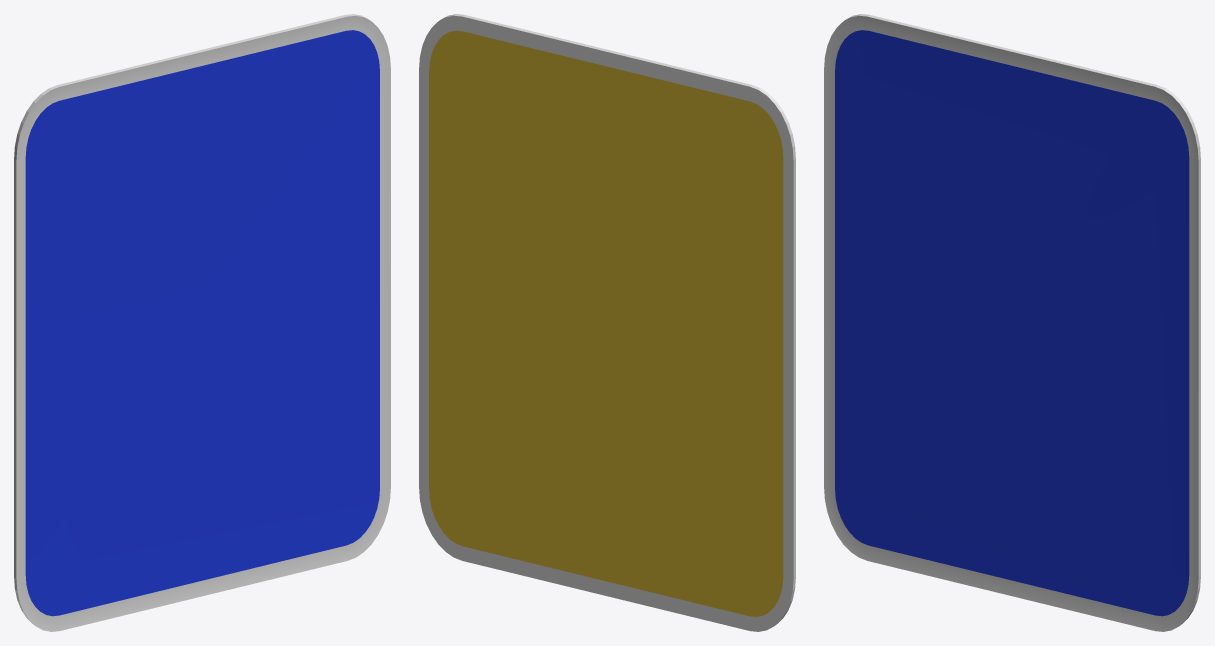
The model's file is Card.fbx.
The picture shows the model from 3 angles, left to right: view 1: azimuth 30°, elevation 25°; view 2: azimuth 150°, elevation 25°; view 3: azimuth 330°, elevation 25°; orthographic projection.
Parts seen in each view (by area): view 1: Cube; view 2: Cube; view 3: Cube.
Part boxes in pixels (box(x1,y1,x2,y2)): Cube: box(14, 14, 390, 631); Cube: box(419, 14, 795, 631); Cube: box(824, 14, 1200, 631).
Bounding box in the file's own units: 360 × 500 × 4.
